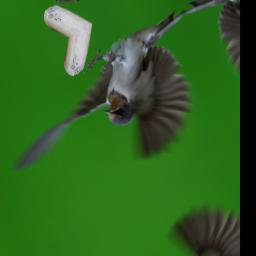Swallow: (0, 4, 225, 228)
